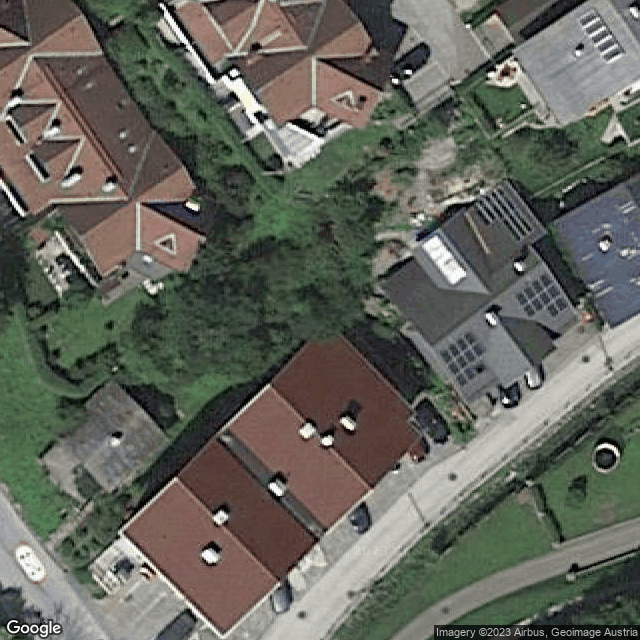dormer: (412, 210, 494, 295), (487, 316, 555, 387), (33, 137, 87, 185), (11, 103, 59, 144)
obstacles: (328, 91, 356, 114), (338, 413, 360, 437), (153, 233, 175, 256), (200, 548, 225, 568), (59, 173, 85, 191), (297, 421, 319, 442), (259, 28, 283, 47), (266, 480, 287, 501), (597, 235, 614, 256), (319, 431, 337, 450), (42, 125, 61, 141), (484, 311, 500, 329), (512, 259, 529, 274), (185, 200, 203, 214), (627, 5, 640, 24), (213, 510, 228, 526), (101, 181, 118, 194), (7, 96, 23, 107), (574, 48, 584, 60), (129, 145, 138, 155), (119, 131, 128, 141)
panels: (473, 188, 536, 245), (577, 8, 627, 66), (438, 331, 488, 389), (514, 274, 568, 319)
ridge: (33, 58, 128, 198), (268, 383, 371, 489), (176, 480, 278, 583), (431, 264, 542, 352), (79, 169, 183, 241), (255, 24, 358, 95), (1, 15, 81, 73), (141, 204, 206, 239), (315, 60, 382, 92), (274, 1, 305, 48), (610, 1, 640, 48), (219, 3, 260, 28), (1, 27, 30, 44), (624, 185, 640, 214)
roof: (1, 1, 221, 279), (381, 179, 578, 405), (226, 320, 430, 531), (119, 438, 322, 636), (163, 1, 398, 132), (511, 1, 640, 126), (554, 174, 640, 328)
valley: (308, 2, 333, 49), (235, 47, 307, 55), (314, 55, 378, 59), (313, 59, 315, 107)
